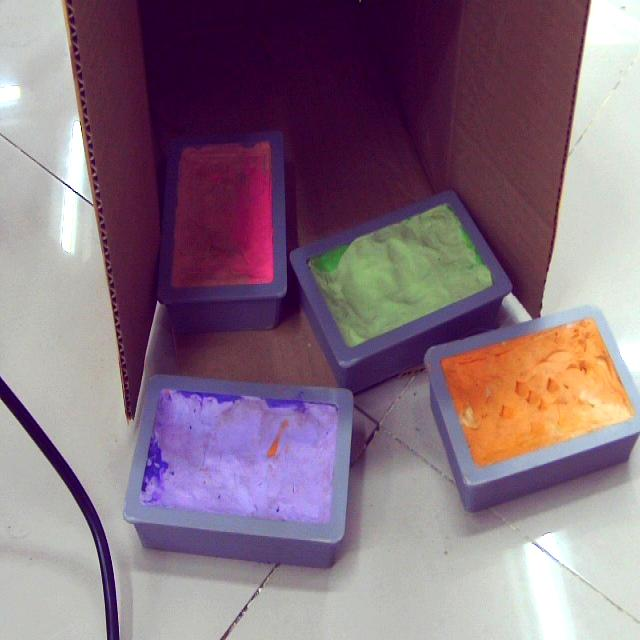block: (124, 374, 359, 569), (289, 191, 513, 395), (422, 304, 640, 511), (156, 129, 293, 335)
